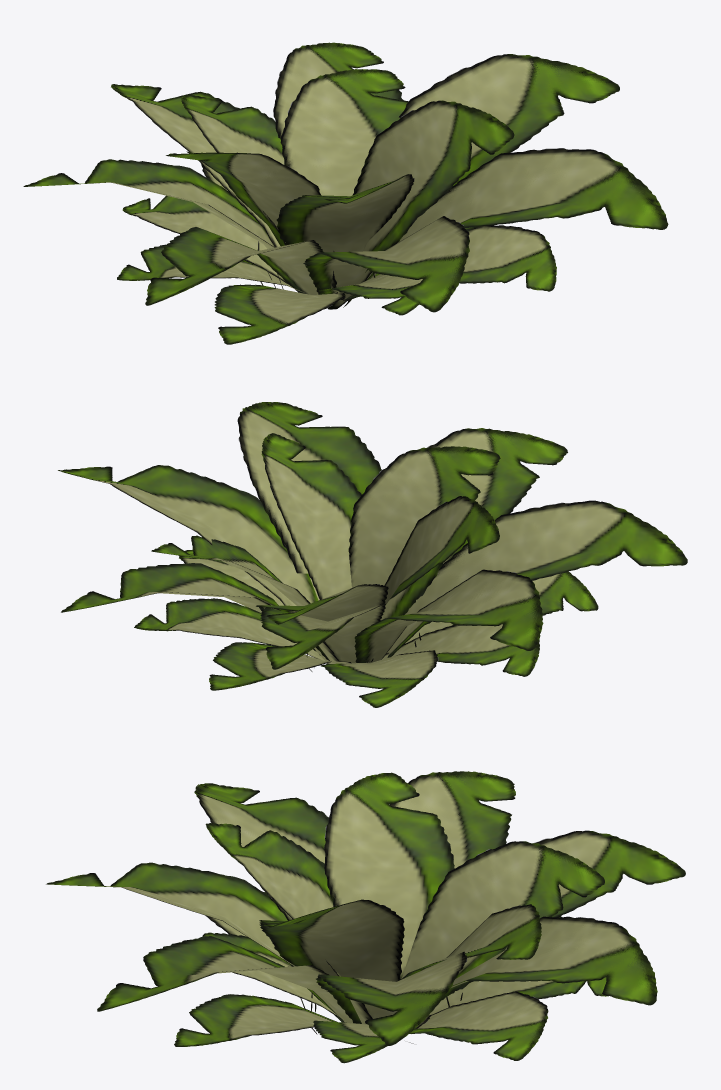
Rendered from WebLeaves.fbx.
3 renders of one model, top to bottom at view 1: azimuth 30°, elevation 25°; view 2: azimuth 150°, elevation 25°; view 3: azimuth 270°, elevation 25°, orthographic. The views are drawn at different scales.
Visible parts, largest first — view 1: WebLeaves; view 2: WebLeaves; view 3: WebLeaves.
Boxes of the visible parts, box(x1,y1,x2,y2) form: WebLeaves: box(23, 42, 668, 344); WebLeaves: box(58, 402, 687, 707); WebLeaves: box(46, 771, 685, 1063).
Size of the model in its own units: 751 by 255 by 728.
Materials: 1 (1 with a texture image).
